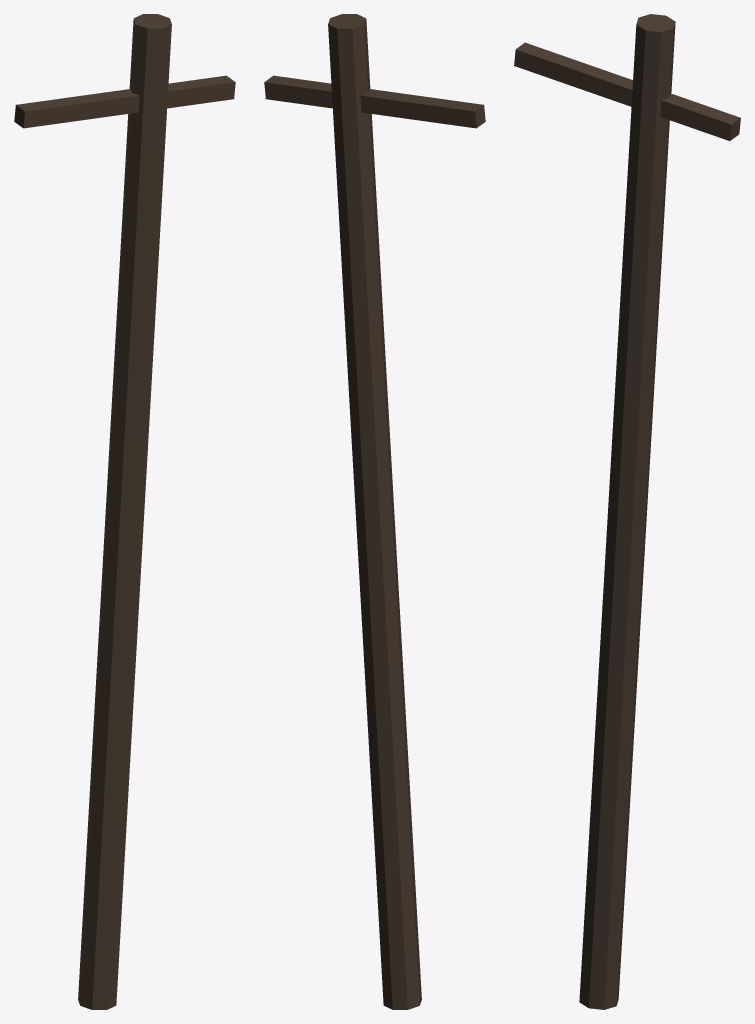
File: bg_wasteland_pole_1_lod0.glb
The picture shows the model from 3 angles, left to right: view 1: azimuth 30°, elevation 25°; view 2: azimuth 150°, elevation 25°; view 3: azimuth 330°, elevation 25°; orthographic projection. The views are drawn at different scales.
Visible parts, largest first — view 1: body; view 2: body; view 3: body.
Part boxes in pixels (x1,y1,x2,y2): body: (14,14,235,1009); body: (264,14,485,1009); body: (514,14,740,1009).
Bounding box in the file's own units: 1.6 × 7 × 0.26.
